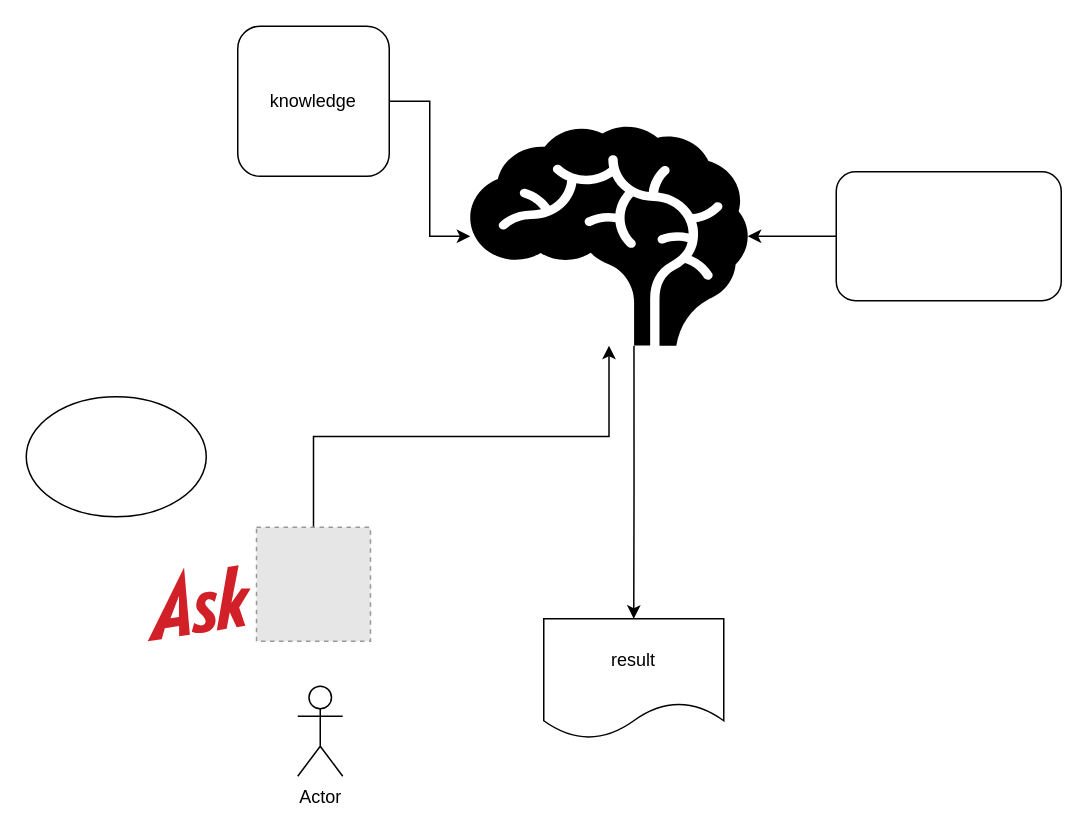
The diagram is 1088 pixels wide and 834 high, and some of its shapes have lost their labels. Grey dashed boxes stand in for pictures. Here are the shapes that lost their labels. From the top down, the centre of each, then its label:
the point at 948,235: change
the point at 115,456: target
